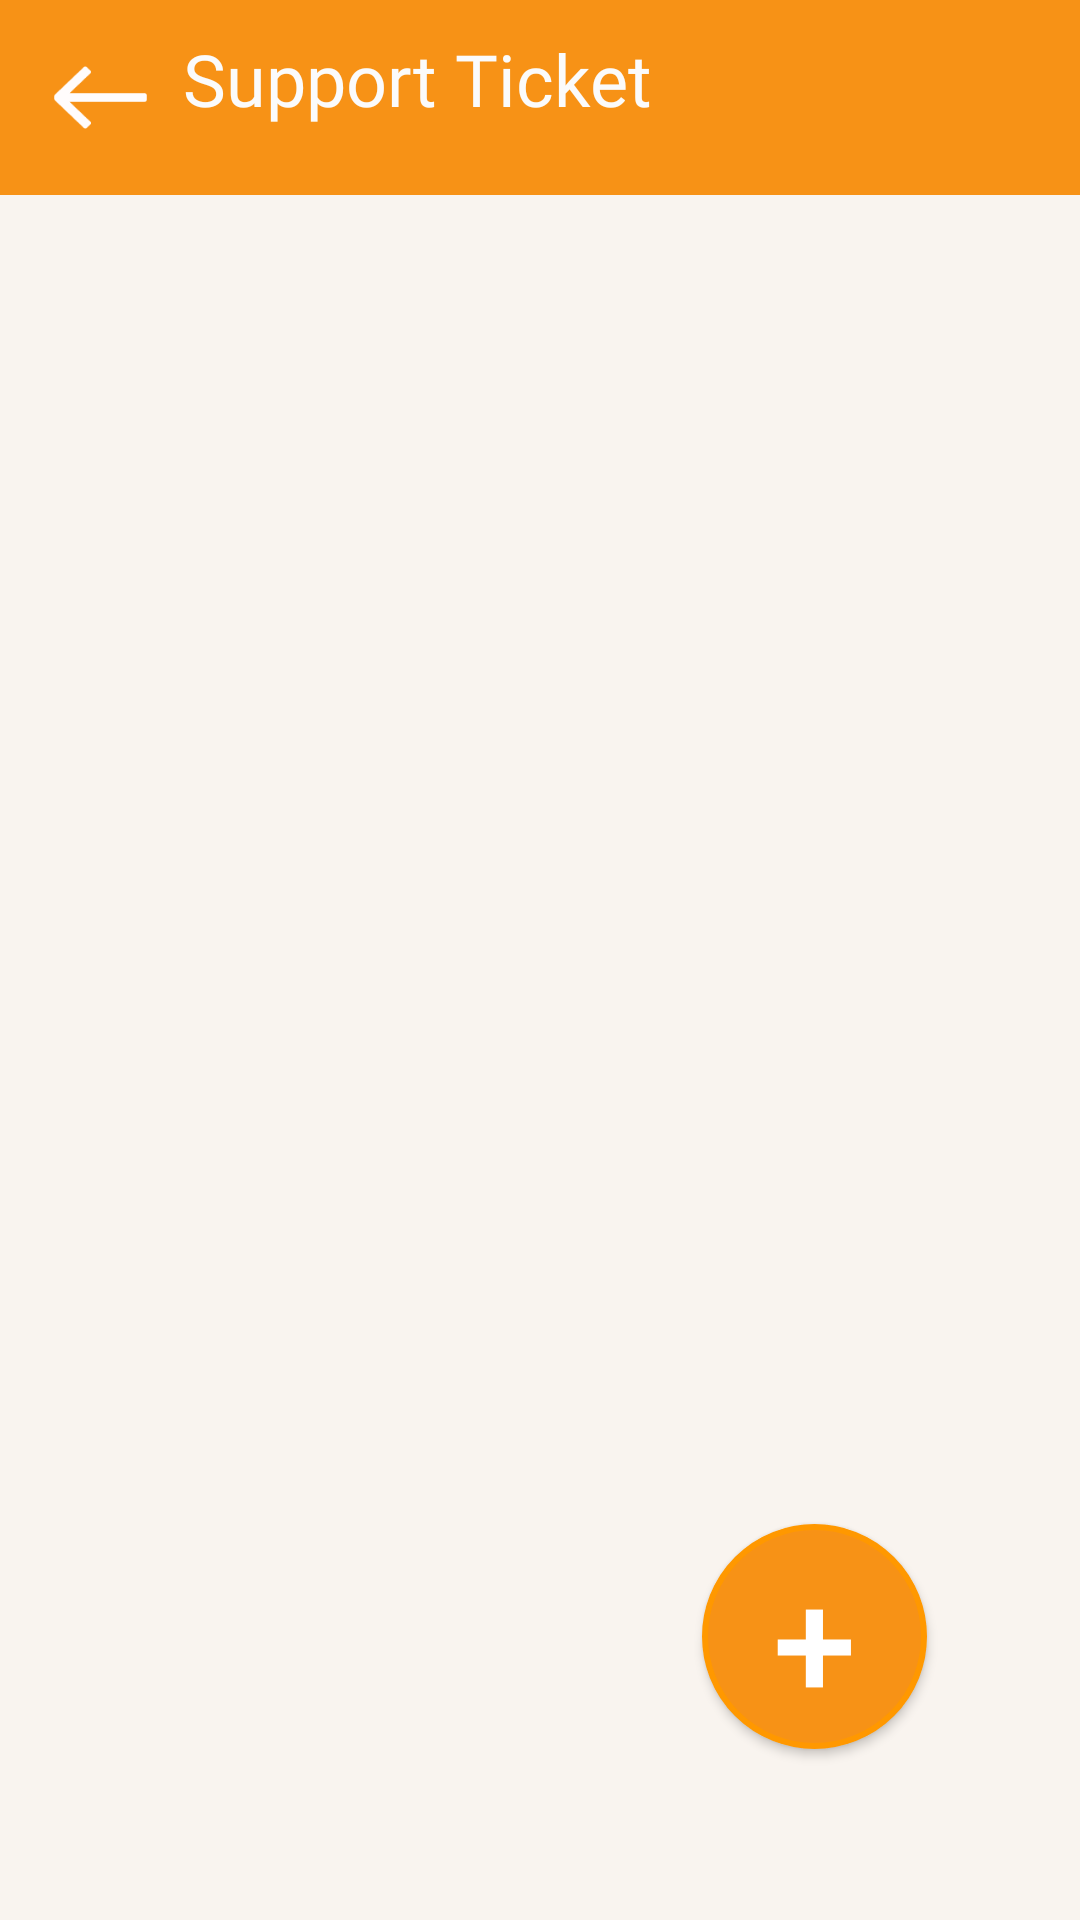

Icon click points for this 1080px x 1920px phone screenshot, format (x,y):
arrow backward: (100,97)
